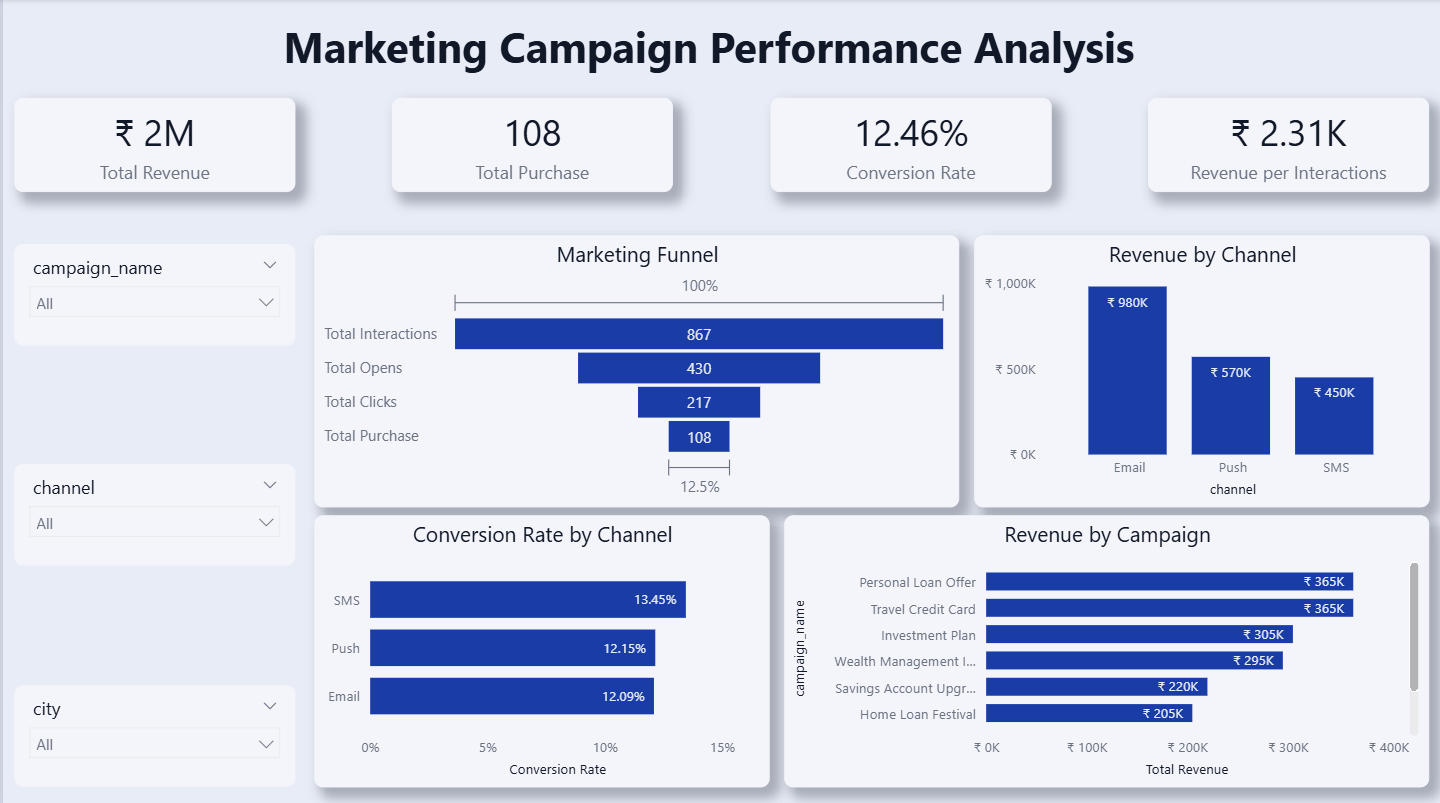

The page's visual inventory and layout, read from the dashboard file:
{"tool":"powerbi","page":{"name":"Executive Marketing overview","canvas":[1280,720],"ordinal":0},"visuals":[{"type":"card","fields":{"Values":["Customers.Total Purchase"]},"box":[346.5,88,250.7,84.4],"z":0},{"type":"card","fields":{"Values":["Customers.Conversion Rate"]},"box":[683.2,88,250.7,84.4],"z":1000},{"type":"card","fields":{"Values":["Customers.Revenue per Interactions"]},"box":[1019.8,88,250.7,84.4],"z":2000},{"type":"card","fields":{"Values":["Customers.Total Revenue"]},"box":[9.8,88,250.7,84.4],"z":3000},{"type":"slicer","fields":{"Values":["campaigns.campaign_name"]},"box":[9.8,217.7,250.7,90.5],"z":4000},{"type":"slicer","fields":{"Values":["campaigns.channel"]},"box":[9.8,414.5,250.7,90.5],"z":5000},{"type":"slicer","fields":{"Values":["Customers.city"]},"box":[9.8,611.4,250.7,90.5],"z":6000},{"type":"funnel","title":"Marketing Funnel","fields":{"Y":["Customers.Total Interactions","Customers.Total Opens","Customers.Total Clicks","Customers.Total Purchase"]},"box":[277.5,209.9,574.3,242.5],"z":7000},{"type":"clusteredColumnChart","title":"Revenue by Channel","fields":{"Category":["campaigns.channel"],"Y":["Customers.Total Revenue"]},"box":[865,209.9,405.4,242.5],"z":8000},{"type":"barChart","title":"Conversion Rate by Channel","fields":{"Category":["campaigns.channel"],"Y":["Customers.Conversion Rate"]},"box":[277.5,459.7,405.4,242.5],"z":9000},{"type":"clusteredBarChart","title":"Revenue by Campaign","fields":{"Category":["campaigns.campaign_name"],"Y":["Customers.Total Revenue"]},"box":[696.1,459.7,574.3,242.5],"z":10000},{"type":"textbox","box":[245.3,12.3,775,63.8],"z":11000}]}

Visuals, with their boxes in screenshot pixels (x1, y1, x2, y2), scaled from the page's 1280x720 canvas onto the 1440x803 screenshot:
card - Customers.Total Purchase: region(390, 98, 672, 192)
card - Customers.Conversion Rate: region(769, 98, 1051, 192)
card - Customers.Revenue per Interactions: region(1147, 98, 1429, 192)
card - Customers.Total Revenue: region(11, 98, 293, 192)
slicer - campaigns.campaign_name: region(11, 243, 293, 344)
slicer - campaigns.channel: region(11, 462, 293, 563)
slicer - Customers.city: region(11, 682, 293, 783)
"Marketing Funnel" funnel: region(312, 234, 958, 505)
"Revenue by Channel" clusteredColumnChart: region(973, 234, 1429, 505)
"Conversion Rate by Channel" barChart: region(312, 513, 768, 783)
"Revenue by Campaign" clusteredBarChart: region(783, 513, 1429, 783)
textbox: region(276, 14, 1148, 85)
